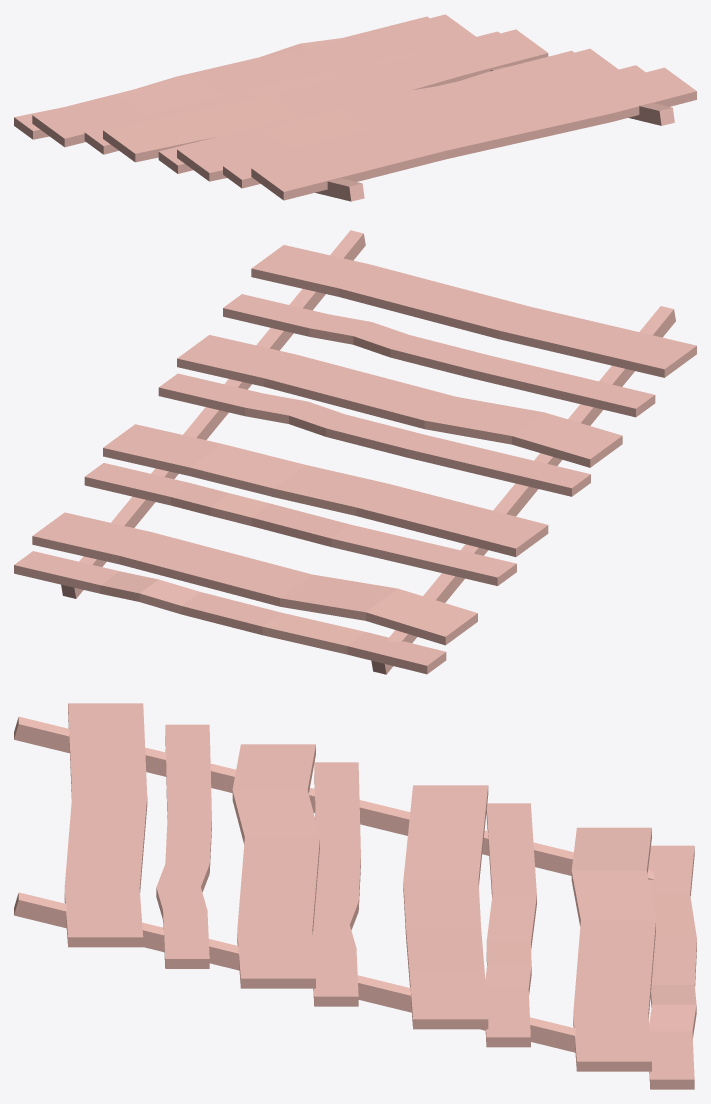
The model's file is Mega_Asset_s_Pack_Cube_255.FBX.
3 views of the same model, one above another, from view 1: azimuth 30°, elevation 25°; view 2: azimuth 150°, elevation 25°; view 3: azimuth 270°, elevation 25° (orthographic). The views are drawn at different scales.
Parts seen in each view (by area): view 1: Mega_Asset_s_Pack_Cube_255; view 2: Mega_Asset_s_Pack_Cube_255; view 3: Mega_Asset_s_Pack_Cube_255.
Boxes of the visible parts, box(x1,y1,x2,y2) form: Mega_Asset_s_Pack_Cube_255: box(14, 14, 696, 201); Mega_Asset_s_Pack_Cube_255: box(14, 230, 696, 674); Mega_Asset_s_Pack_Cube_255: box(14, 703, 696, 1089).
Size of what is drawn, in the model's own units: 427 by 526 by 153.
